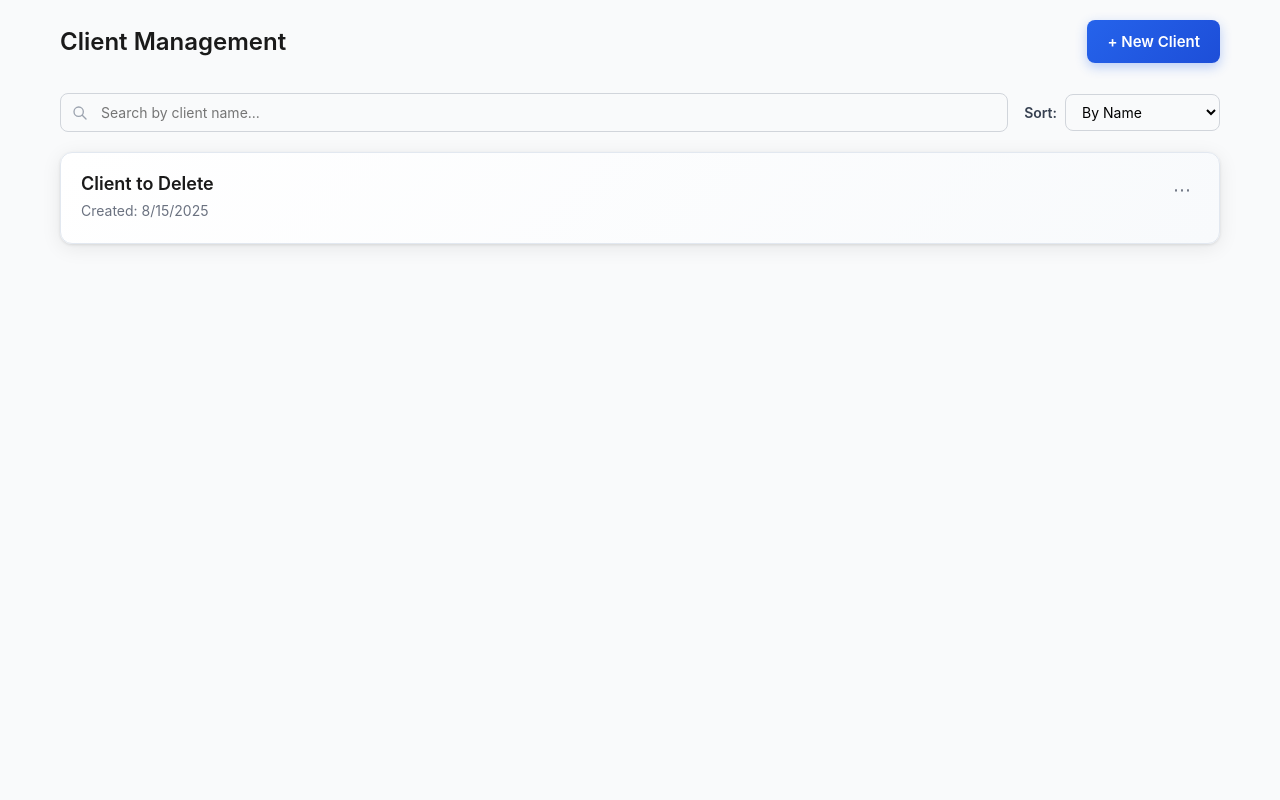
ClientManagement Component › Client Actions › should show confirmation dialog when deleting client
Check: the heading "Client to Delete" is shown, box [81, 173, 214, 194]
Click the button named "more options" at (1182, 190), box [1165, 173, 1199, 207]
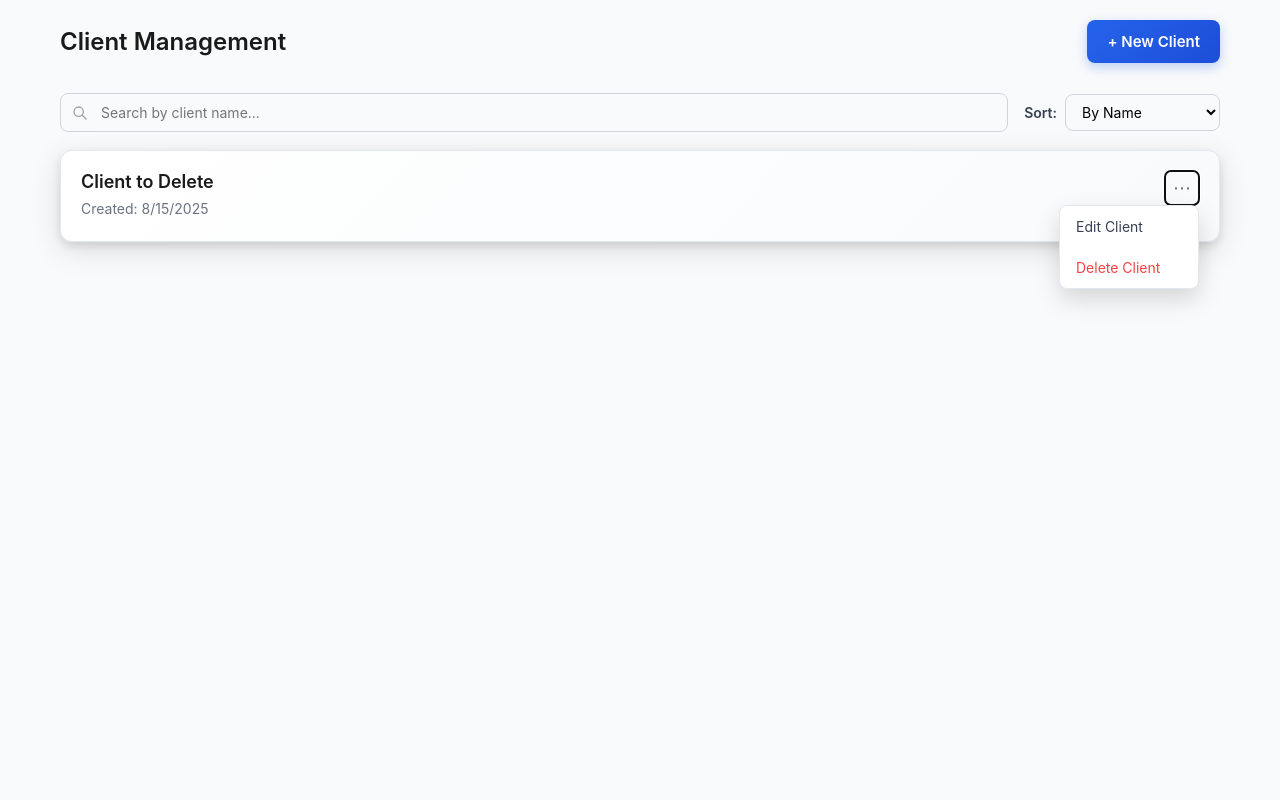
Click the button "Delete Client" at (1129, 268), box [1060, 247, 1198, 288]
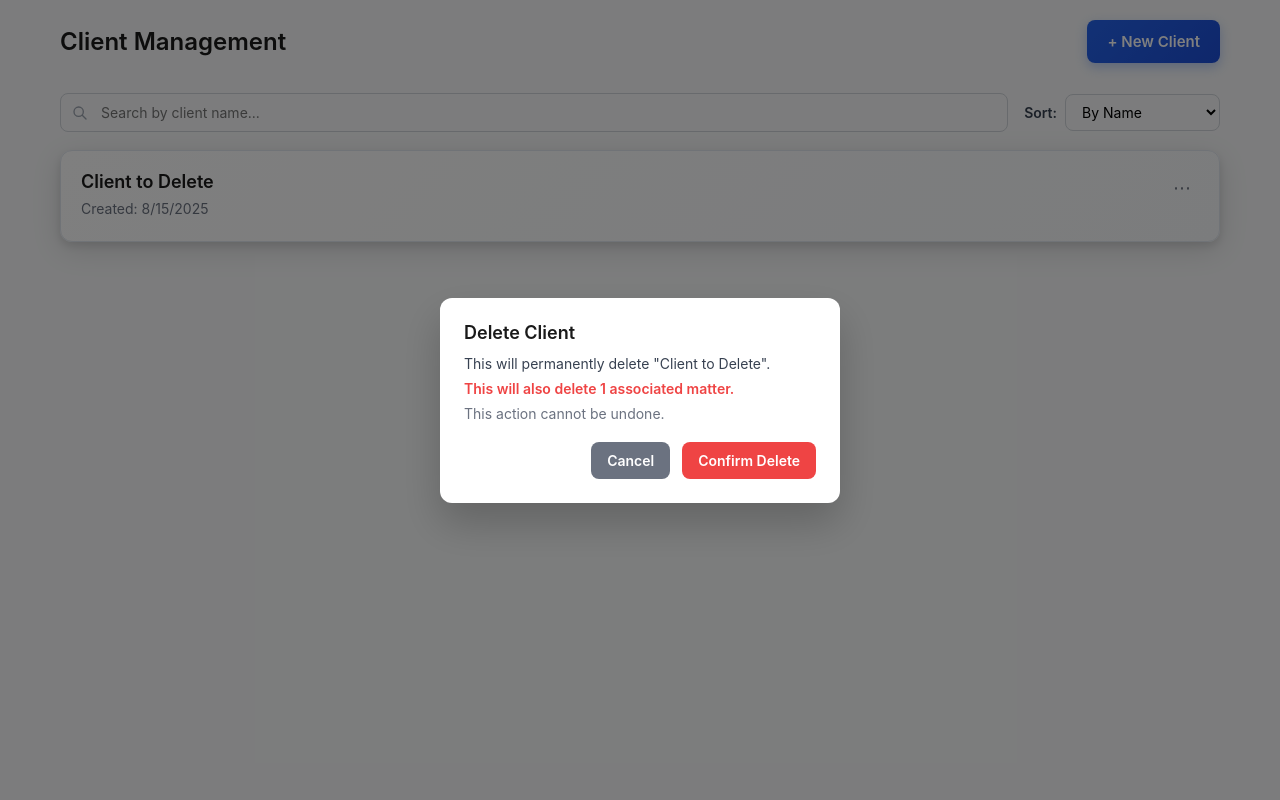
Check: the text "This will permanently delete \"Client to Delete\"." is shown, box [464, 354, 816, 372]
Check: the text "This will also delete 1 associated matter." is shown, box [464, 380, 734, 396]
Check: the button "Confirm Delete" is shown, box [682, 442, 816, 478]
